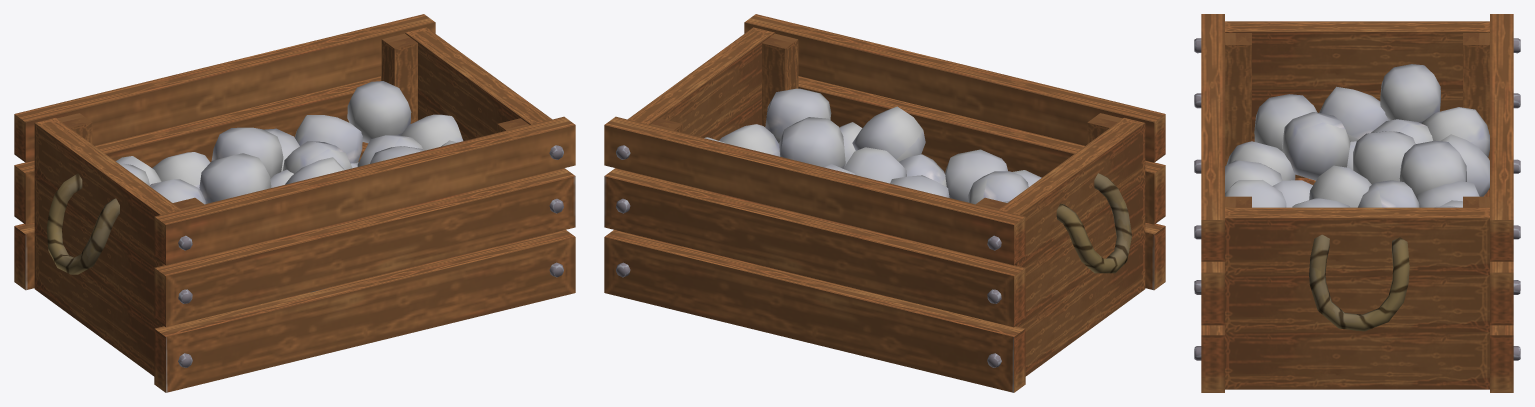
3 renders of one model, left to right at view 1: azimuth 30°, elevation 25°; view 2: azimuth 150°, elevation 25°; view 3: azimuth 270°, elevation 25°, orthographic. The views are drawn at different scales.
Parts seen in each view (by area): view 1: 65618c815c3bd61d939fa2d128f6dd14e5f631651b6cb2d71470c1277463; view 2: 65618c815c3bd61d939fa2d128f6dd14e5f631651b6cb2d71470c1277463; view 3: 65618c815c3bd61d939fa2d128f6dd14e5f631651b6cb2d71470c1277463.
Part boxes in pixels (left/top/right/bottom): 65618c815c3bd61d939fa2d128f6dd14e5f631651b6cb2d71470c1277463: left=14, top=14, right=575, bottom=392; 65618c815c3bd61d939fa2d128f6dd14e5f631651b6cb2d71470c1277463: left=604, top=14, right=1165, bottom=392; 65618c815c3bd61d939fa2d128f6dd14e5f631651b6cb2d71470c1277463: left=1194, top=14, right=1520, bottom=392.
Size of the model in its own units: 0.7138 by 0.2438 by 0.4142.
3 materials, 3 textured.
